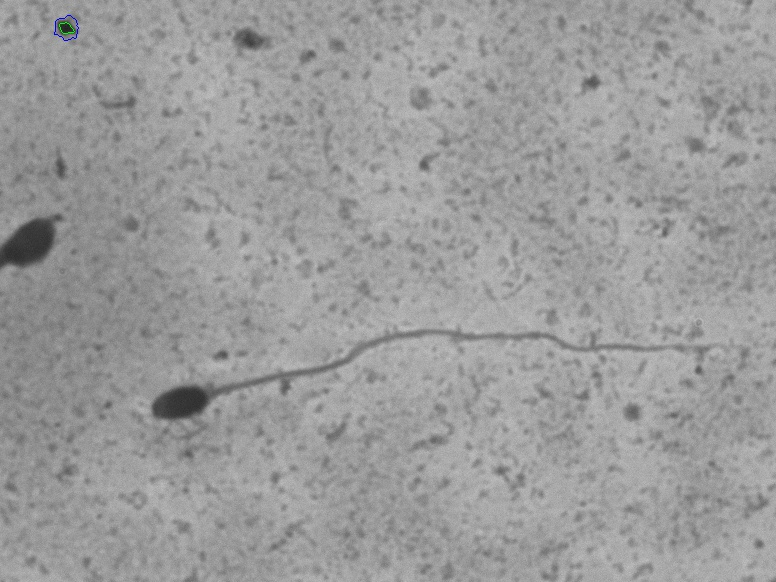Normal: (99, 291, 740, 442)
